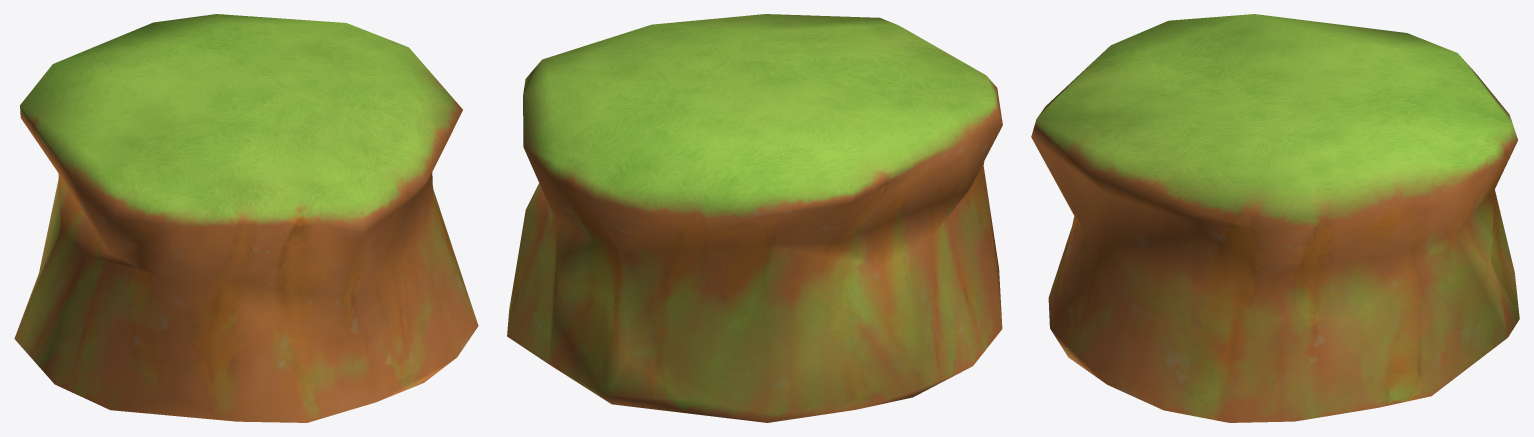
File: ENV0110001.FBX
3 views of the same model, side by side, from view 1: azimuth 30°, elevation 25°; view 2: azimuth 150°, elevation 25°; view 3: azimuth 270°, elevation 25° (orthographic). The views are drawn at different scales.
Parts seen in each view (by area): view 1: smENV0110001; view 2: smENV0110001; view 3: smENV0110001.
Part boxes in pixels (x1=…): smENV0110001: x1=14, y1=14, x2=478, y2=422; smENV0110001: x1=507, y1=14, x2=1002, y2=422; smENV0110001: x1=1031, y1=14, x2=1519, y2=422.
Bounding box in the file's own units: 34.93 × 19.86 × 36.65.
Materials: 1 (1 with a texture image).
